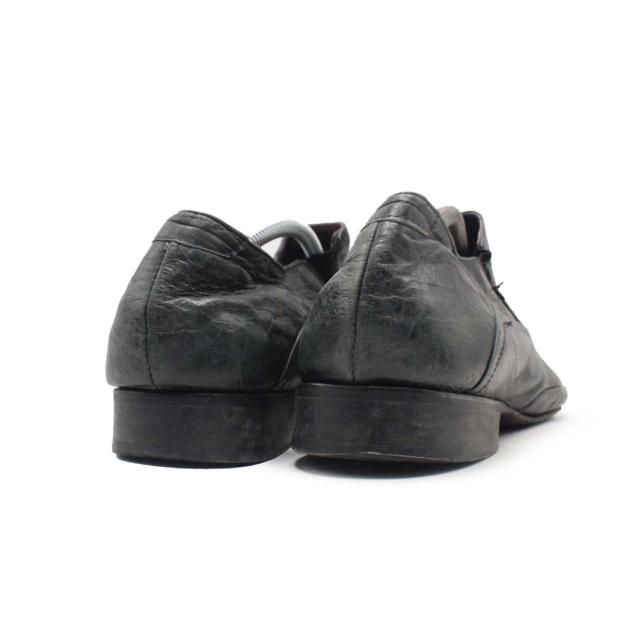heel: (300, 191, 497, 389), (105, 207, 293, 392)
midsole: (297, 380, 565, 463), (108, 382, 302, 466)
